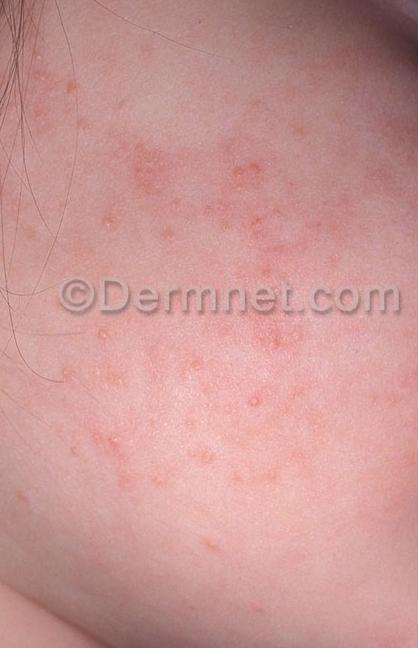edema 1: (62, 126, 307, 563)
eritema 1: (83, 95, 335, 350)
